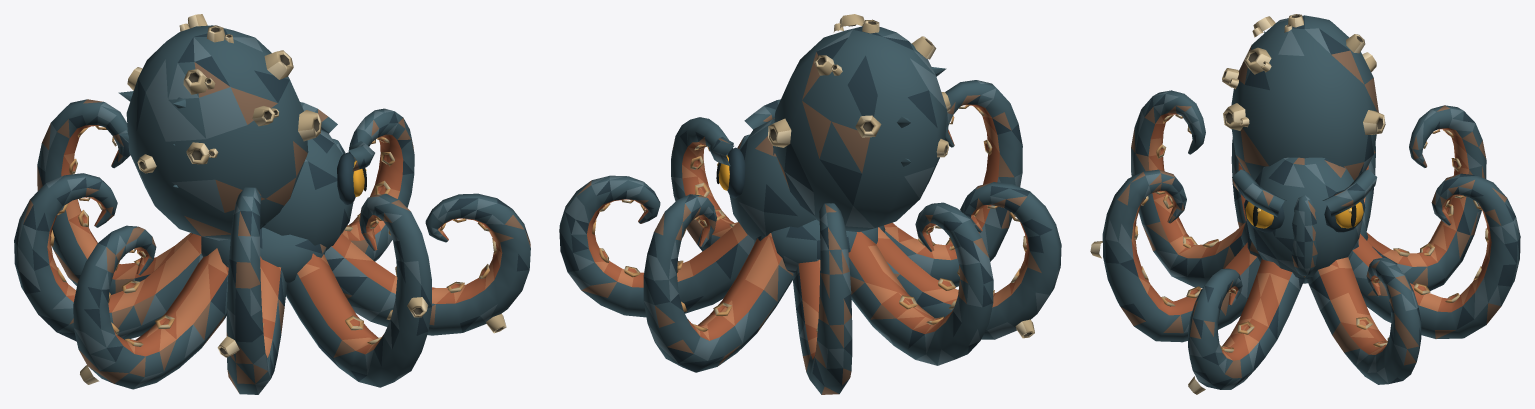
The picture shows the model from 3 angles, left to right: view 1: azimuth 30°, elevation 25°; view 2: azimuth 150°, elevation 25°; view 3: azimuth 270°, elevation 25°; orthographic projection. The views are drawn at different scales.
Visible parts, largest first — view 1: 深渊海怪 · Kraken; view 2: 深渊海怪 · Kraken; view 3: 深渊海怪 · Kraken.
Boxes of the visible parts, x1,y1,x2,y2 form: 深渊海怪 · Kraken: (14,14,530,394); 深渊海怪 · Kraken: (559,14,1061,394); 深渊海怪 · Kraken: (1090,14,1520,394).
Bounding box in the file's own units: 3 × 2.16 × 2.94.
